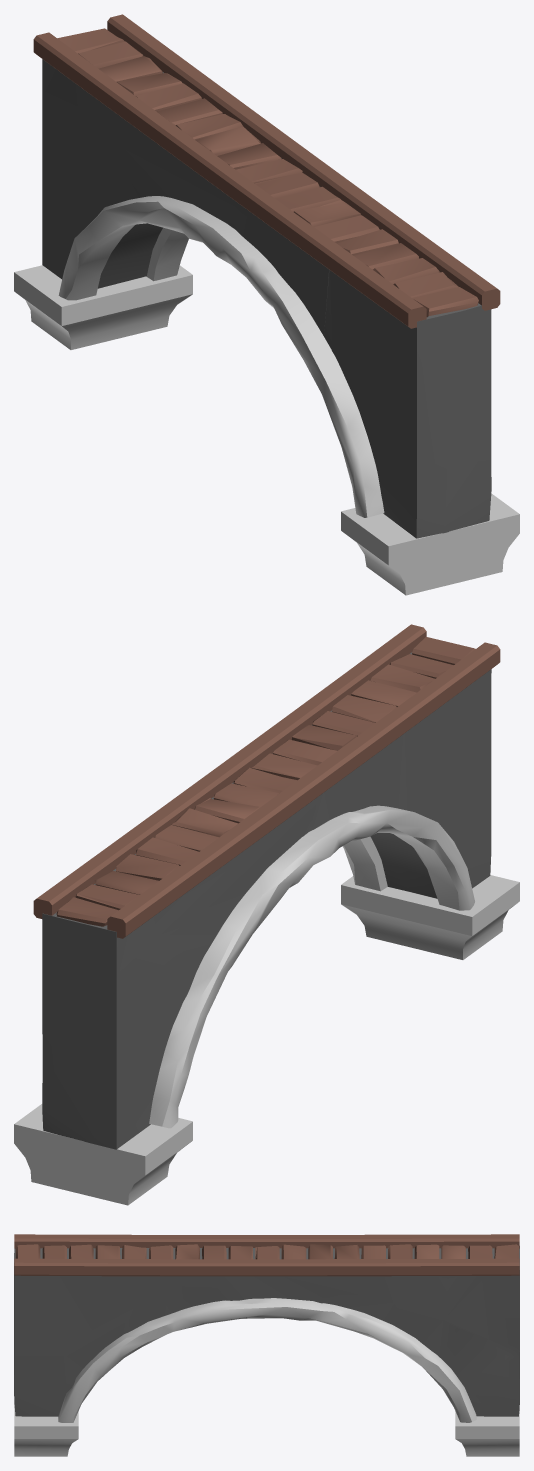
File: civilian_bridge_1_c.FBX
3 views of the same model, one above another, from view 1: azimuth 30°, elevation 25°; view 2: azimuth 150°, elevation 25°; view 3: azimuth 270°, elevation 25° (orthographic). The views are drawn at different scales.
Parts seen in each view (by area): view 1: civilian_bridge_1_c_LOD0; view 2: civilian_bridge_1_c_LOD0; view 3: civilian_bridge_1_c_LOD0.
Boxes of the visible parts, <box> form: civilian_bridge_1_c_LOD0: <box>14,14,519,595</box>; civilian_bridge_1_c_LOD0: <box>14,624,519,1205</box>; civilian_bridge_1_c_LOD0: <box>14,1234,519,1456</box>.
Size of what is drawn, in the model's own units: 214 by 443 by 1057.
